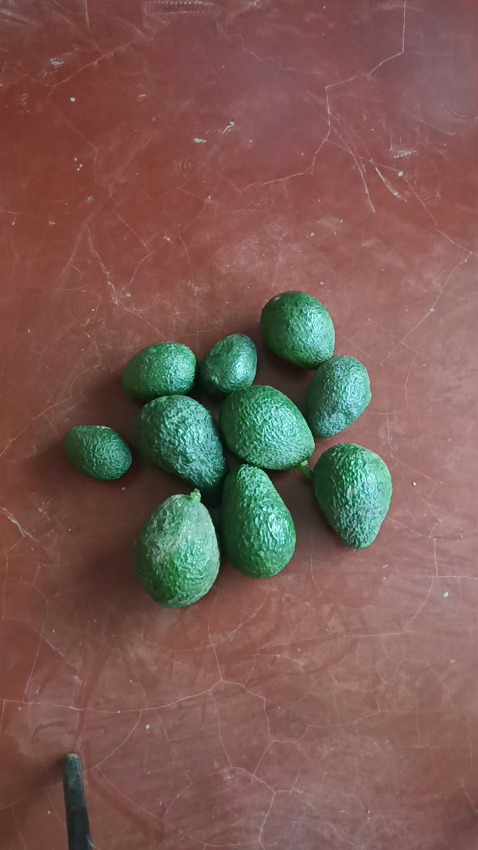Primera: (131, 493, 221, 604), (133, 394, 227, 489), (219, 465, 296, 576), (311, 443, 393, 547), (219, 387, 315, 470)
Segunda: (260, 290, 335, 367), (304, 355, 372, 438)
Tercera: (121, 342, 197, 402), (199, 333, 258, 398), (64, 424, 132, 480)
